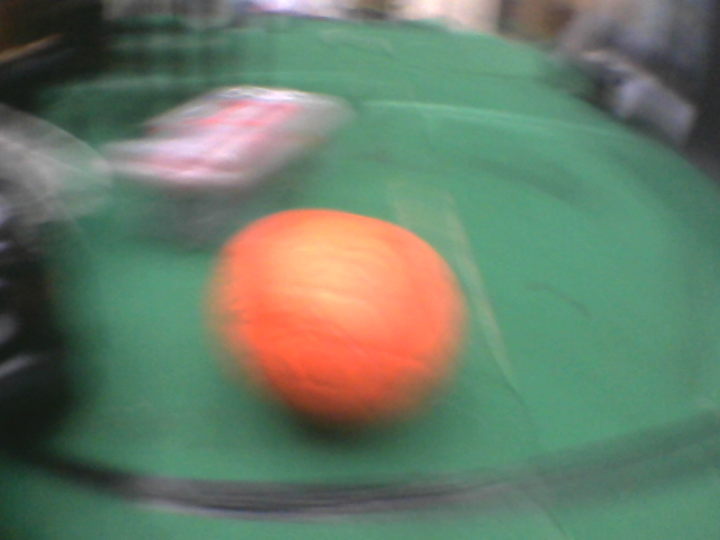bola: (209, 191, 469, 434)
